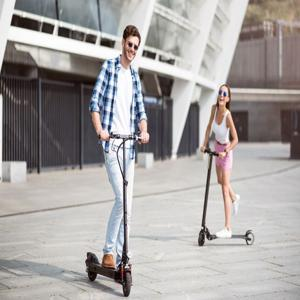human on a scooter: (84, 23, 151, 298), (196, 83, 255, 248)
